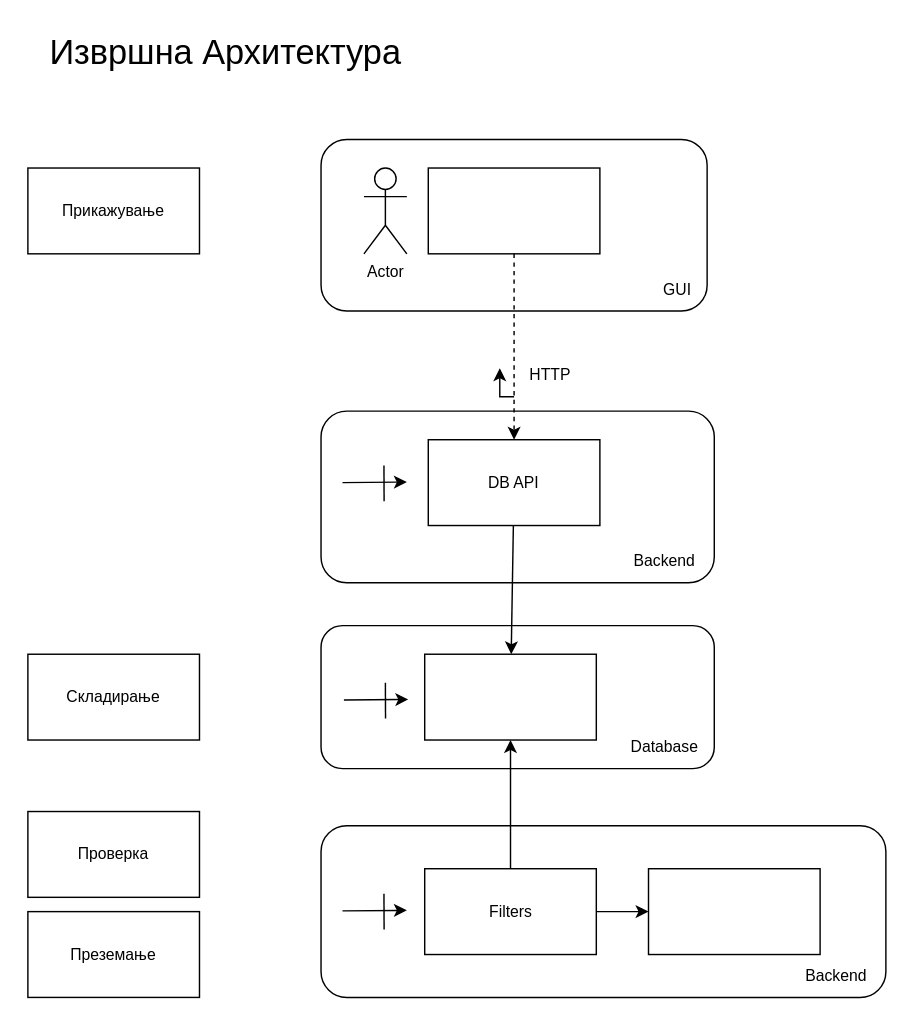
This 911x1022 diagram has some shape labels left out. Each missing label, with the centre of its shape:
"DB" goes at (509,696).
"Frontend" goes at (513,210).
"Web Automation Driver" goes at (733,911).
